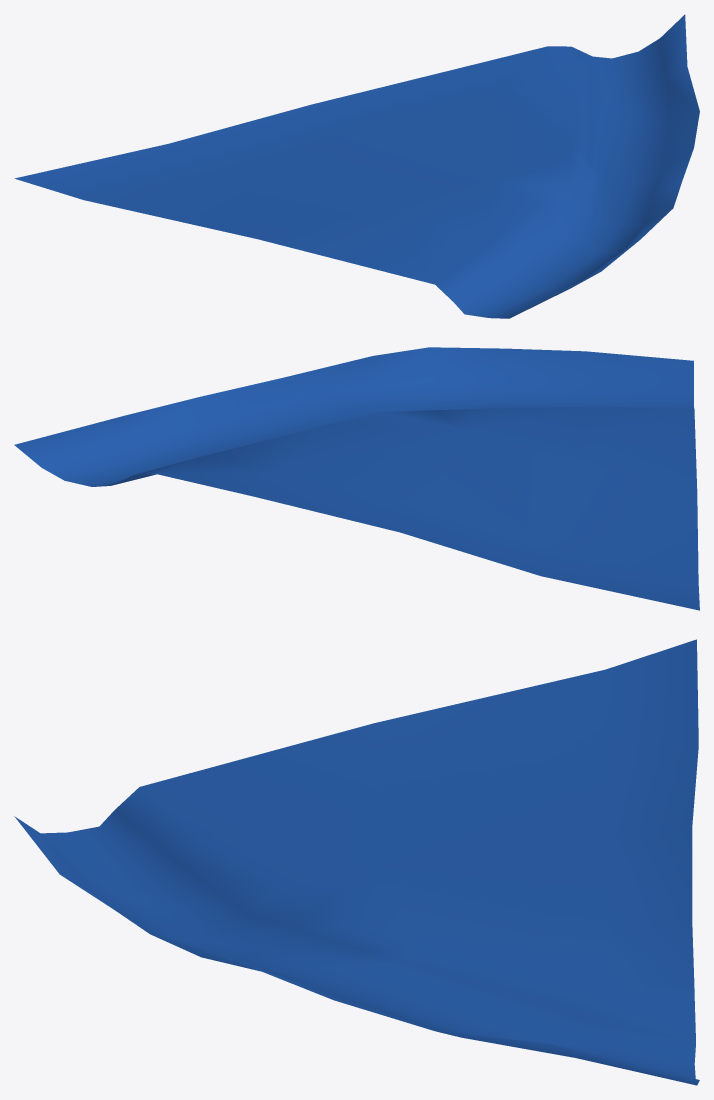
3 renders of one model, top to bottom at view 1: azimuth 30°, elevation 25°; view 2: azimuth 150°, elevation 25°; view 3: azimuth 270°, elevation 25°, orthographic. The views are drawn at different scales.
Visible parts, largest first — view 1: polySurface9; view 2: polySurface9; view 3: polySurface9.
Boxes of the visible parts, x1,y1,x2,y2 form: polySurface9: (14,14,699,318); polySurface9: (14,347,699,610); polySurface9: (14,639,699,1085).
Bounding box in the file's own units: 4144 × 205 × 2730.
